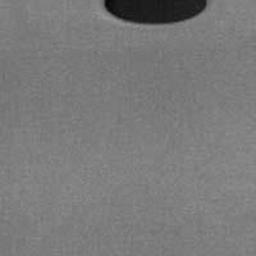Punching: (104, 0, 206, 26)
